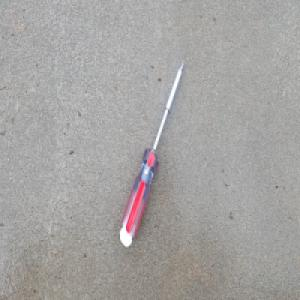Screwdriver: (119, 59, 186, 249)
